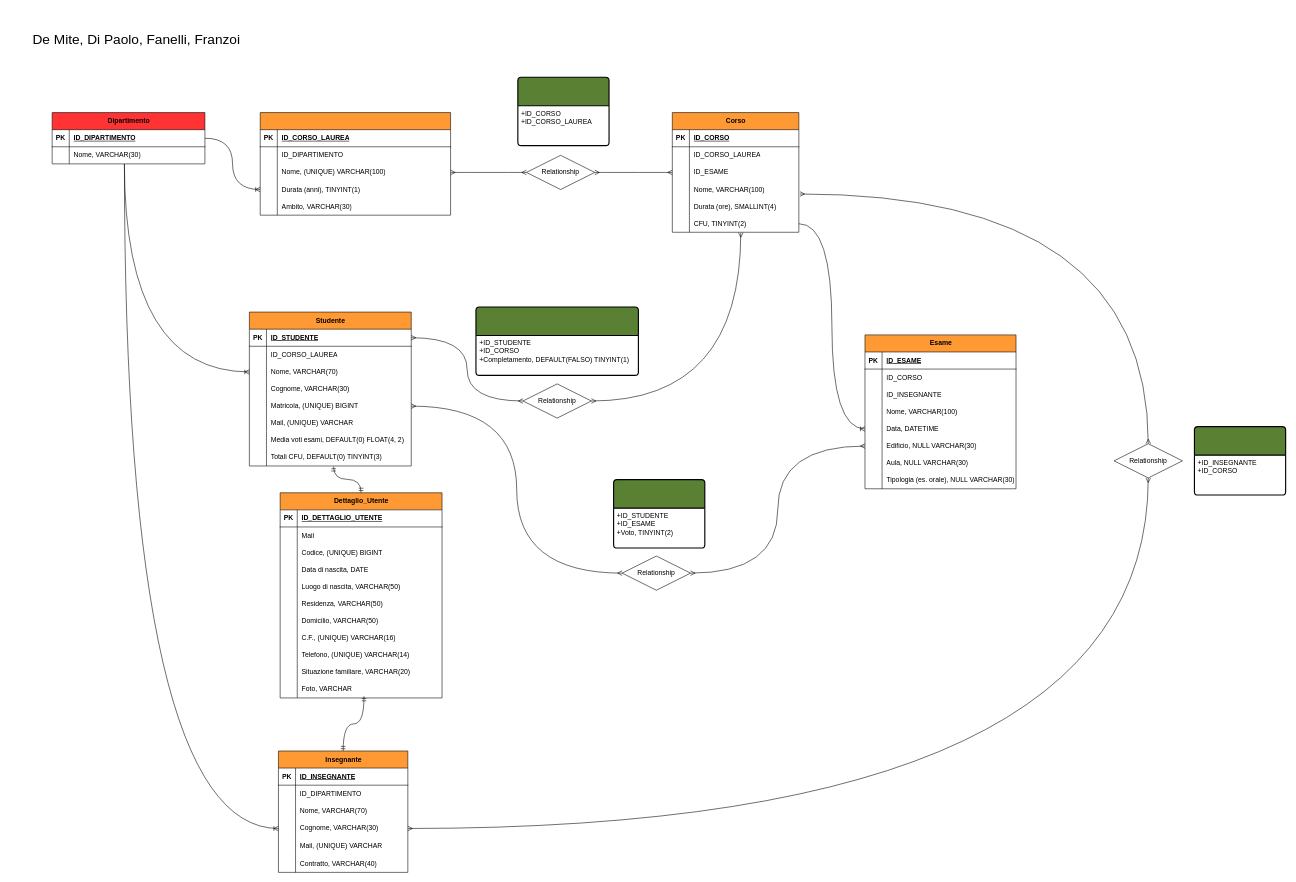
The diagram is 1296 pixels wide and 882 high, and some of its shapes have lost their labels. Each missing label, with the box of its shape:
Corso di Laurea: (260, 112, 451, 215)
corso_insegnante: (1194, 426, 1286, 495)
corsoLaurea_corso: (517, 76, 609, 146)
esame_studente: (613, 479, 705, 548)
studente_corso: (475, 306, 639, 376)
